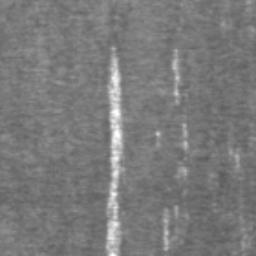White rust: (106, 57, 123, 256)
